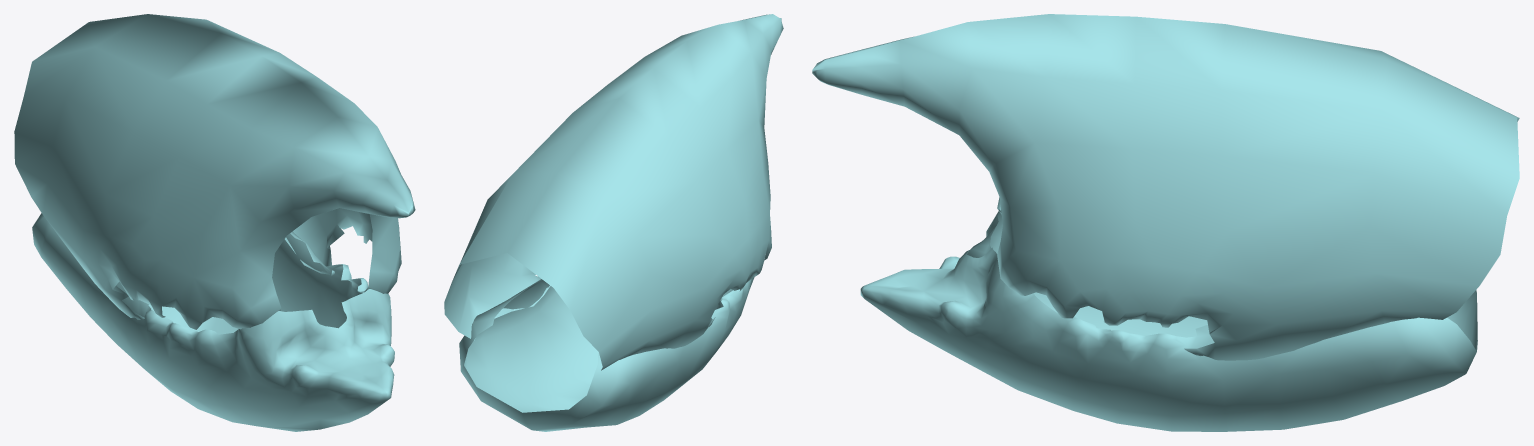
Rendered from Cherry_Exported_Body.fbx.
3 renders of one model, left to right at view 1: azimuth 30°, elevation 25°; view 2: azimuth 150°, elevation 25°; view 3: azimuth 270°, elevation 25°, orthographic. The views are drawn at different scales.
Visible parts, largest first — view 1: Ch.back_low, Ch.stomach_low; view 2: Ch.back_low, Ch.stomach_low; view 3: Ch.back_low, Ch.stomach_low.
Boxes of the visible parts, x1,y1,x2,y2 form: Ch.back_low: [14, 14, 415, 329]; Ch.stomach_low: [32, 213, 394, 431]; Ch.back_low: [444, 14, 783, 370]; Ch.stomach_low: [459, 276, 754, 431]; Ch.back_low: [812, 14, 1519, 360]; Ch.stomach_low: [860, 209, 1477, 431].
Bounding box in the file's own units: 0.8544 × 0.5452 × 0.3843.
